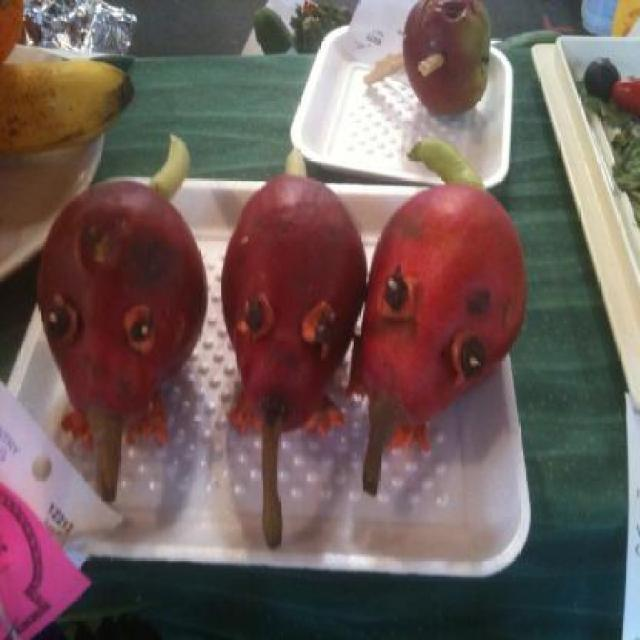Apple pie: (414, 9, 508, 123)
